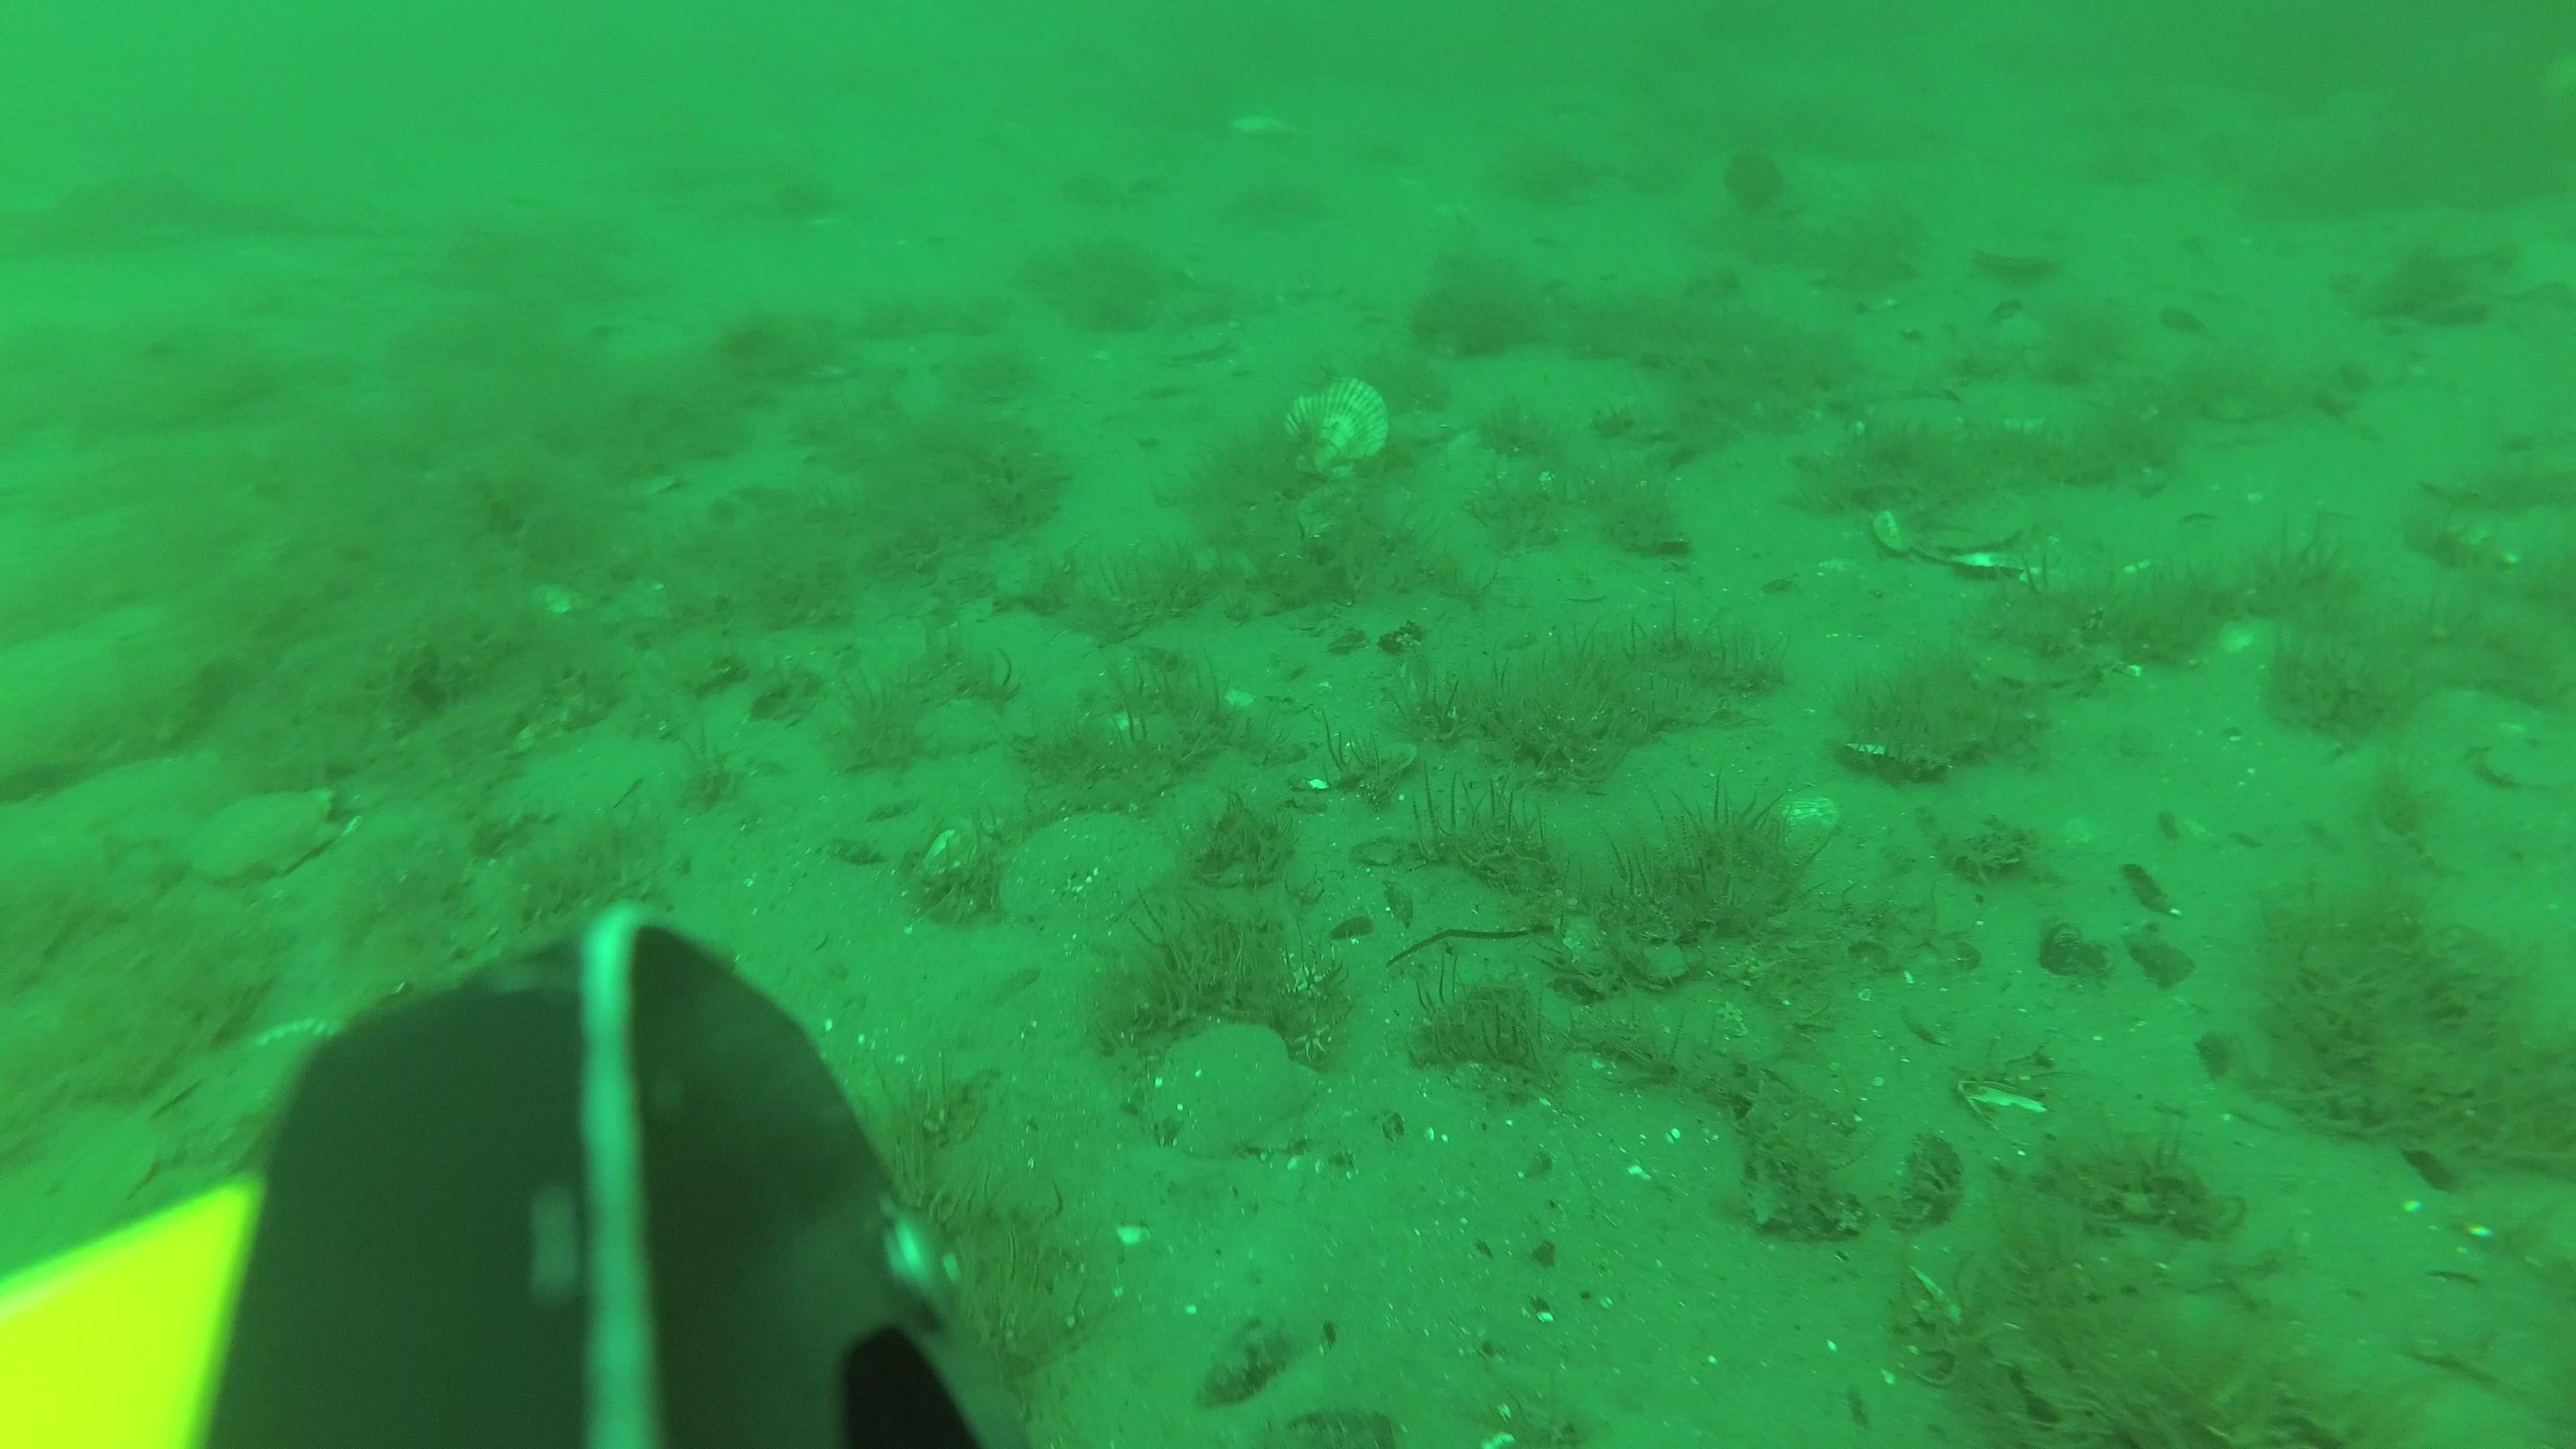scallop: (1145, 1021, 1316, 1157), (1868, 488, 2029, 579), (196, 793, 341, 881), (1277, 373, 1382, 471)
